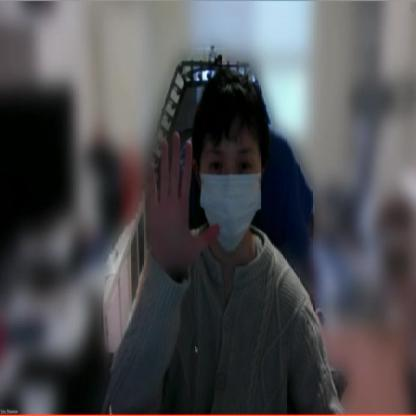five: (144, 128, 221, 276)
